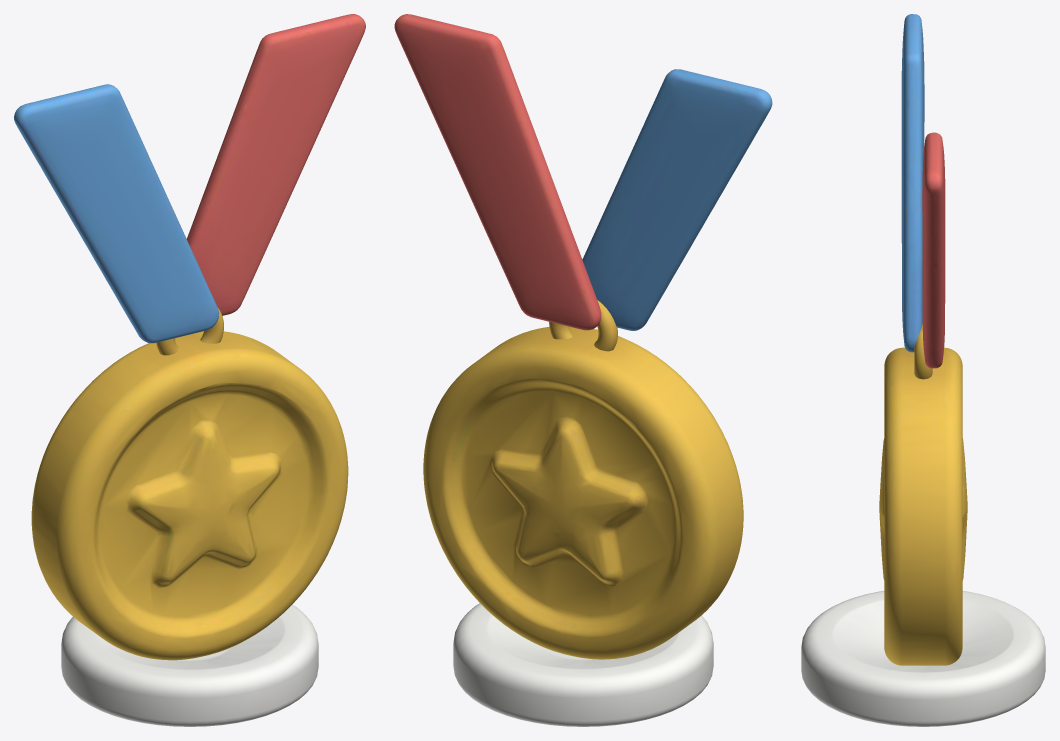
File: medal.glb
3 views of the same model, side by side, from view 1: azimuth 30°, elevation 25°; view 2: azimuth 150°, elevation 25°; view 3: azimuth 270°, elevation 25° (orthographic). The views are drawn at different scales.
Parts seen in each view (by area): view 1: medal-pickup_rotor, medal-pickup_body; view 2: medal-pickup_rotor, medal-pickup_body; view 3: medal-pickup_rotor, medal-pickup_body.
Boxes of the visible parts, left/top/right/bottom form: medal-pickup_rotor: left=14, top=14, right=365, bottom=660; medal-pickup_body: left=61, top=604, right=318, bottom=726; medal-pickup_rotor: left=394, top=14, right=772, bottom=659; medal-pickup_body: left=453, top=603, right=713, bottom=726; medal-pickup_rotor: left=879, top=14, right=967, bottom=665; medal-pickup_body: left=801, top=591, right=1045, bottom=726.
Size of the model in its own units: 0.3225 by 0.528 by 0.2.
Materials: 2 (2 with a texture image).
